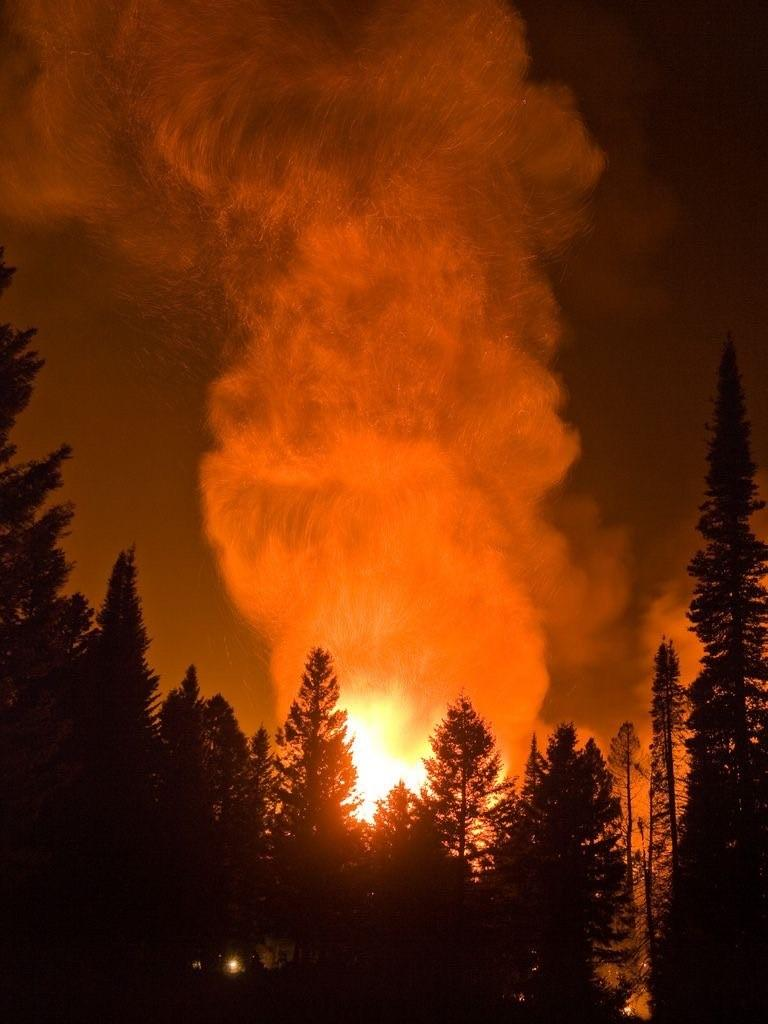fire: (266, 733, 501, 913)
smoke: (0, 7, 594, 681)
